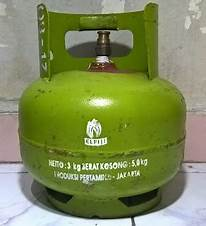gas_ijo: (18, 2, 187, 219)
